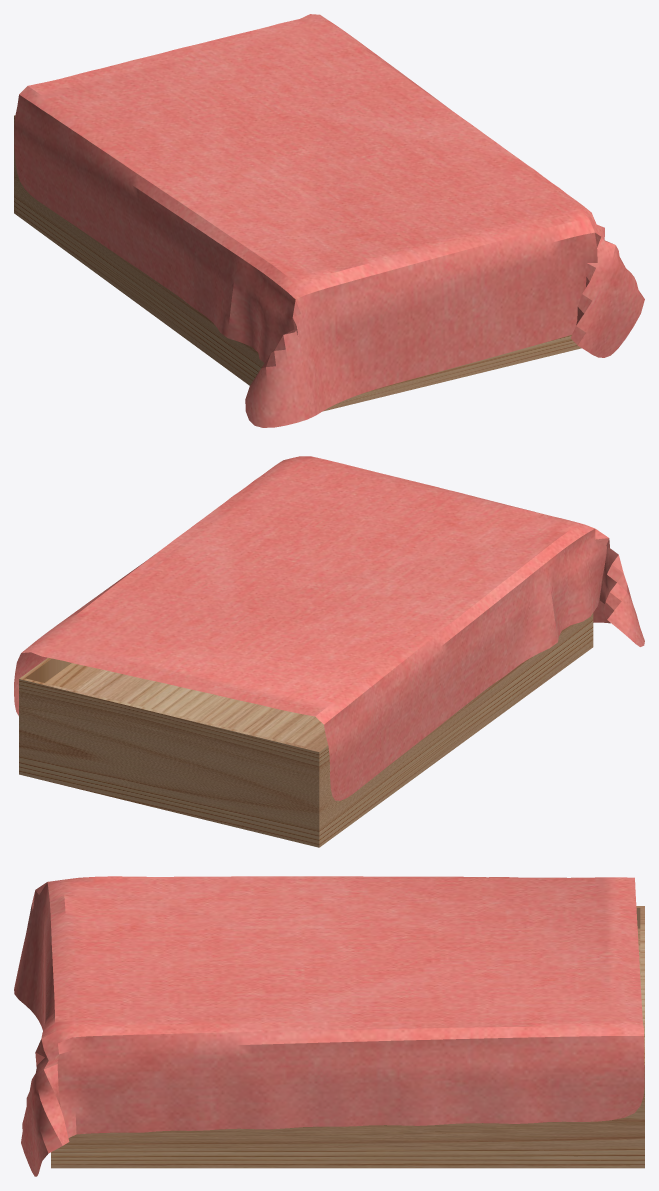
File: bed.fbx
3 renders of one model, top to bottom at view 1: azimuth 30°, elevation 25°; view 2: azimuth 150°, elevation 25°; view 3: azimuth 270°, elevation 25°, orthographic. The views are drawn at different scales.
Parts seen in each view (by area): view 1: Coberta, Cube; view 2: Coberta, Cube; view 3: Coberta, Cube.
Boxes of the visible parts, left/top/right/bottom form: Coberta: left=14, top=14, right=644, bottom=427; Cube: left=14, top=115, right=581, bottom=411; Coberta: left=14, top=456, right=644, bottom=800; Cube: left=19, top=613, right=593, bottom=847; Coberta: left=14, top=876, right=644, bottom=1176; Cube: left=51, top=906, right=644, bottom=1168.
Size of the model in its own units: 285 by 94.28 by 371.
2 materials, 2 textured.
